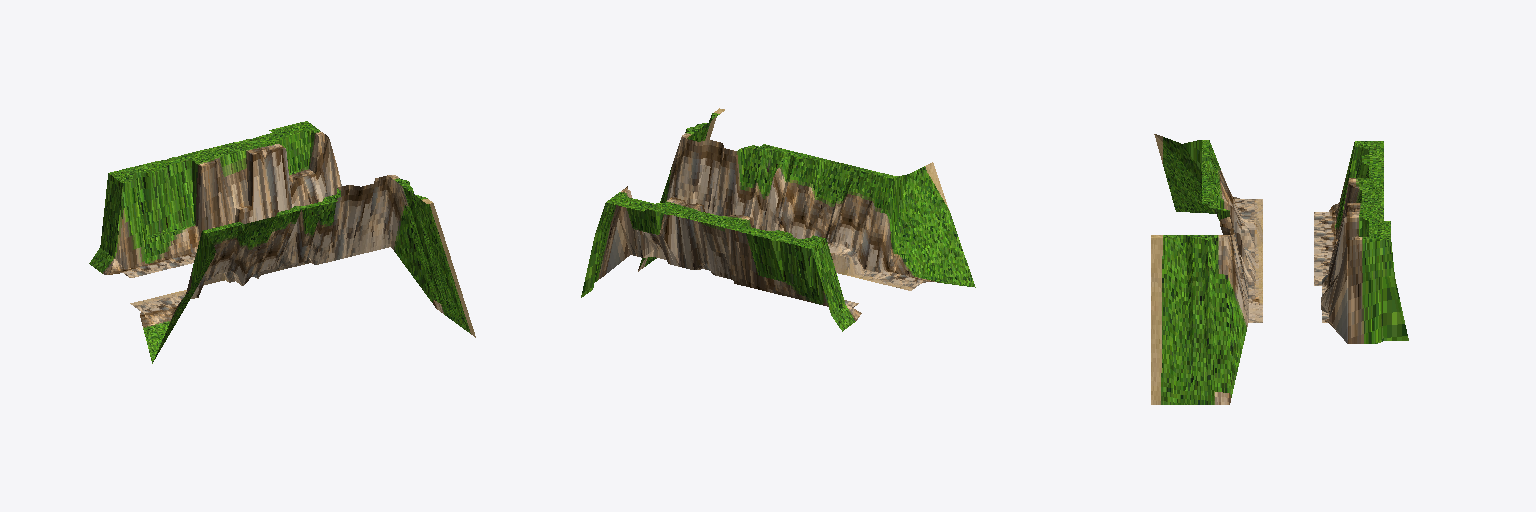
3 renders of one model, left to right at view 1: azimuth 30°, elevation 25°; view 2: azimuth 150°, elevation 25°; view 3: azimuth 270°, elevation 25°, orthographic.
Visible parts, largest first — view 1: hill_1_Grid; view 2: hill_1_Grid; view 3: hill_1_Grid.
Part boxes in pixels (bbox=[...]): hill_1_Grid: bbox=[89, 121, 475, 363]; hill_1_Grid: bbox=[581, 108, 975, 331]; hill_1_Grid: bbox=[1151, 134, 1408, 404].
Size of the model in its own units: 109 by 48.66 by 78.21.
Materials: 1 (1 with a texture image).